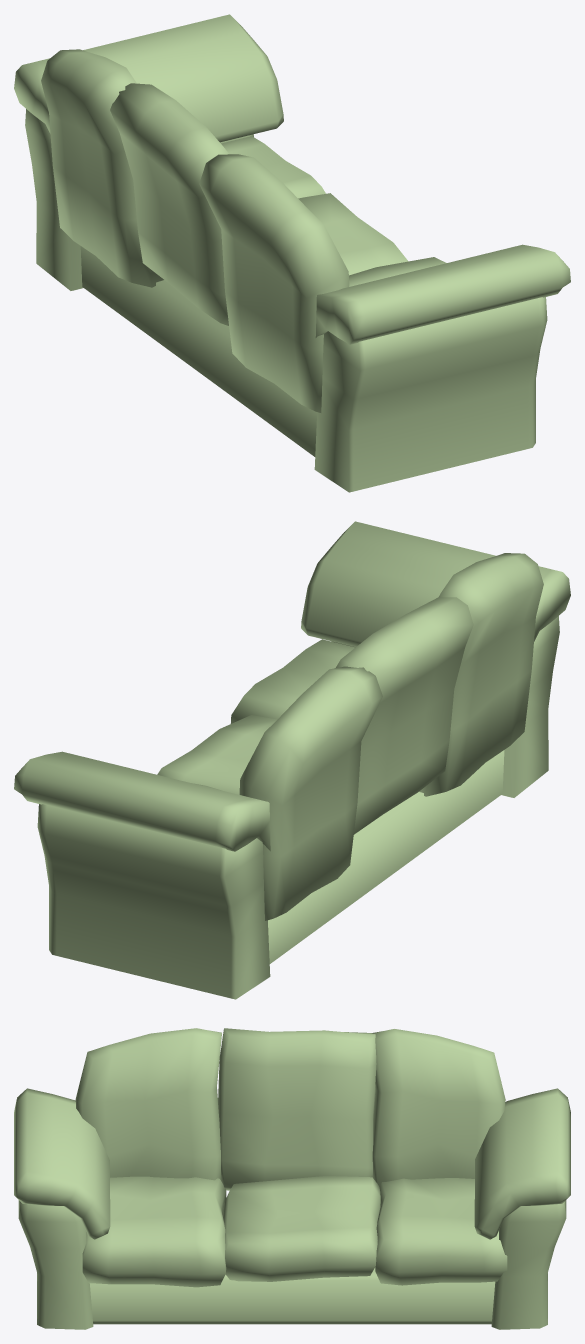
Rendered from Sofa.fbx.
3 views of the same model, one above another, from view 1: azimuth 30°, elevation 25°; view 2: azimuth 150°, elevation 25°; view 3: azimuth 270°, elevation 25° (orthographic). The views are drawn at different scales.
Visible parts, largest first — view 1: Sofa; view 2: Sofa; view 3: Sofa.
Boxes of the visible parts, x1=… form: Sofa: x1=14, y1=14, x2=570, y2=492; Sofa: x1=14, y1=521, x2=570, y2=999; Sofa: x1=14, y1=1028, x2=570, y2=1329.
Size of the model in its own units: 161 by 163 by 375.
